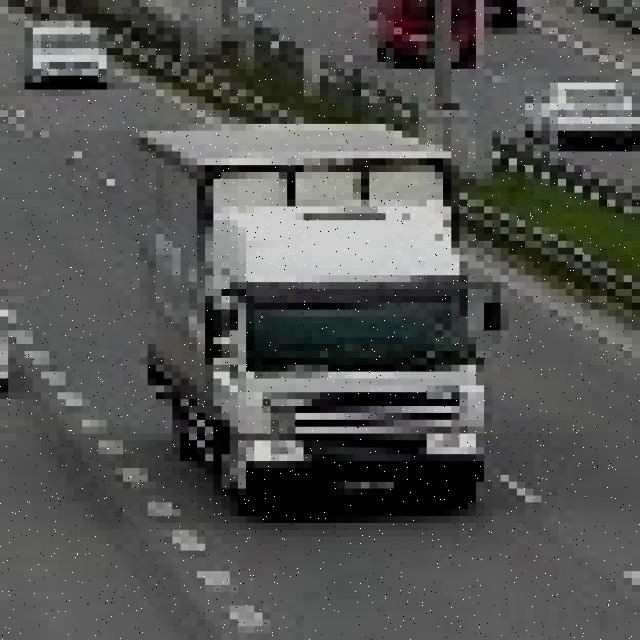truck: (139, 110, 517, 516)
